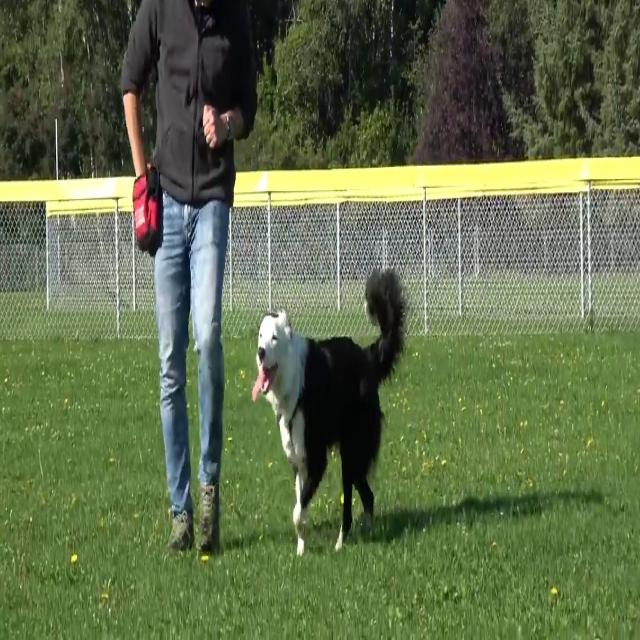Unleashed_Dog: (188, 244, 406, 560)
